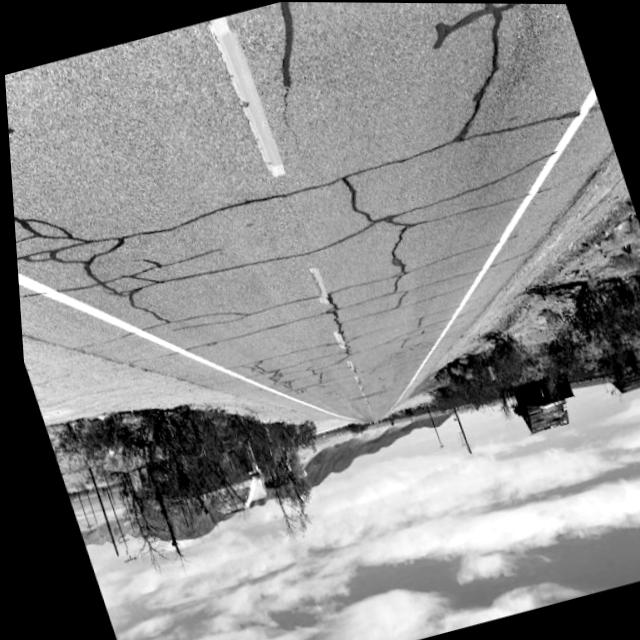cleat: (5, 2, 640, 624)
